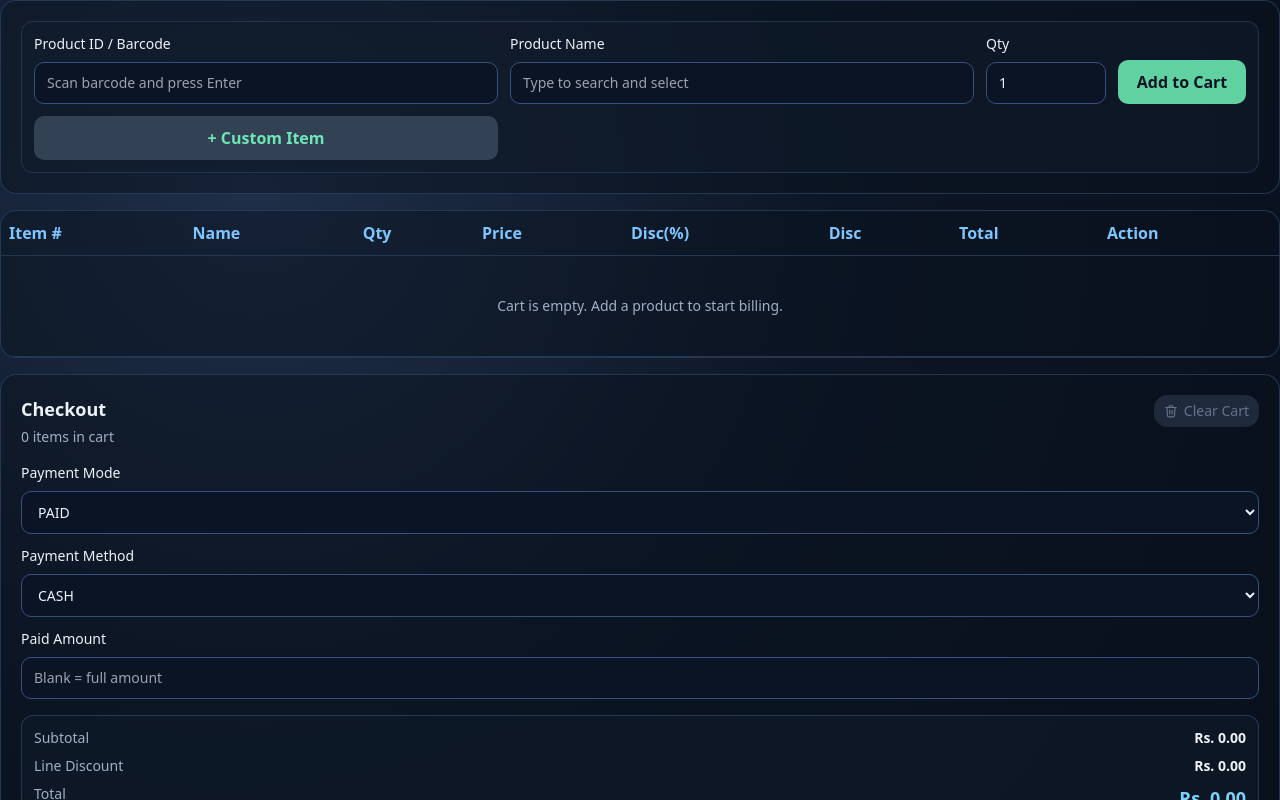
BillingTab › shows warning and blocks adding when qty exceeds stock
Type "P001" into the field labelled "Product ID / Barcode".
click(266, 83); type("P001")  # box top-left (34, 62), bottom-right (498, 104)
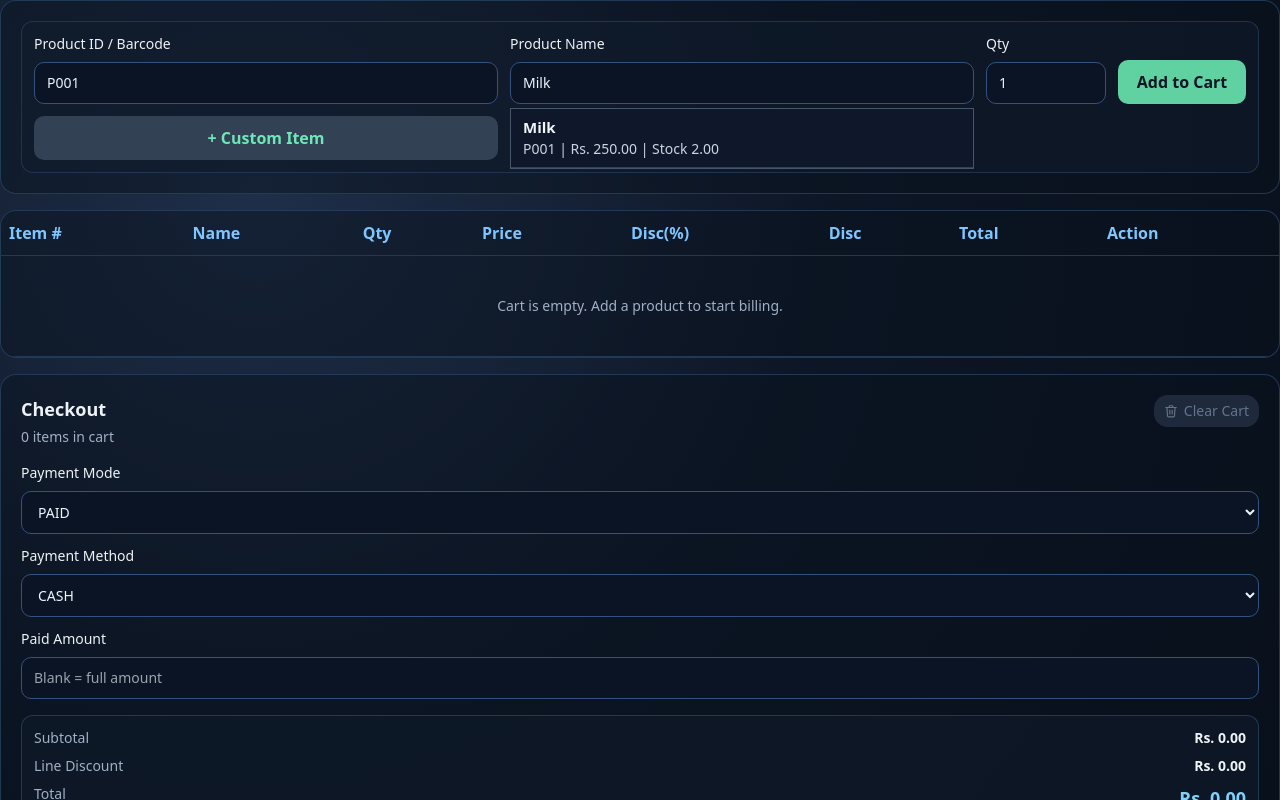
Replace the text in the field labelled "Qty" with "3" at point(1046, 83), box top-left (986, 62), bottom-right (1106, 104)
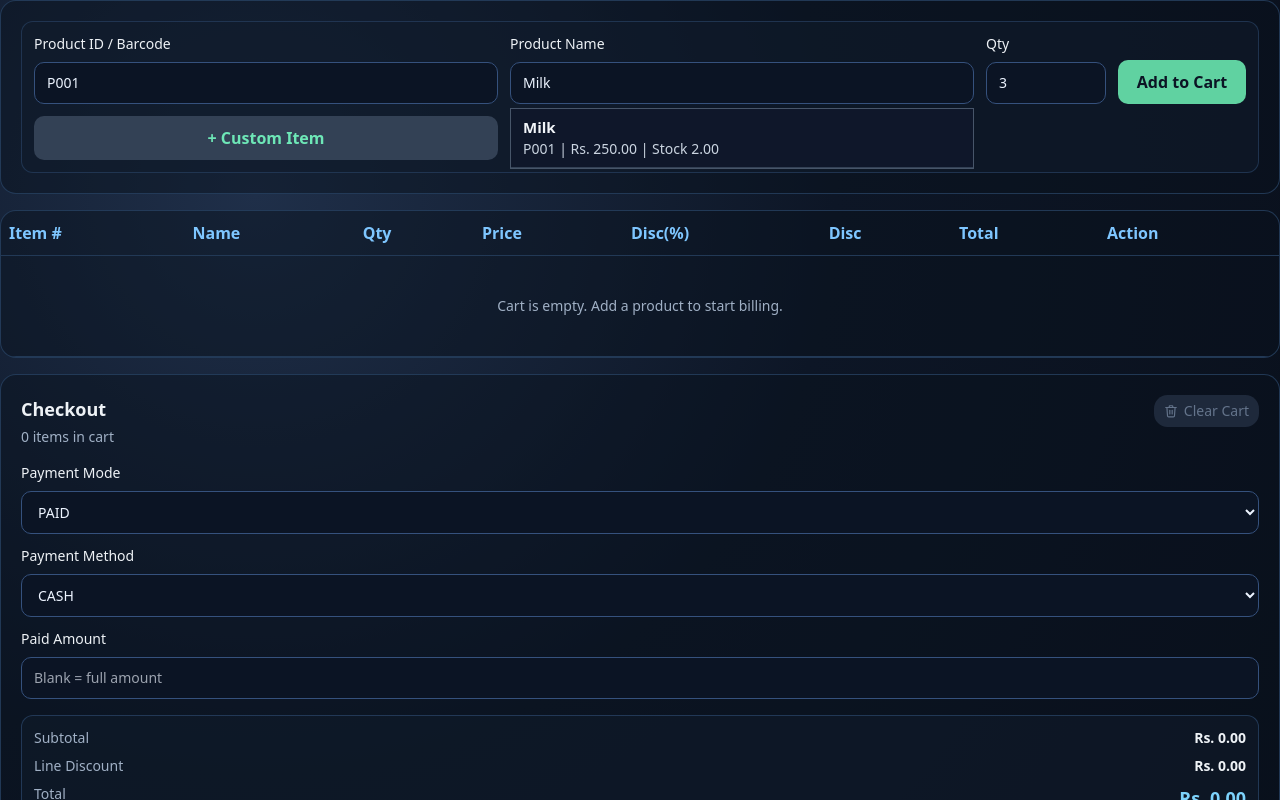
Click the button "Add to Cart".
click(1182, 82)  # box top-left (1118, 60), bottom-right (1246, 104)
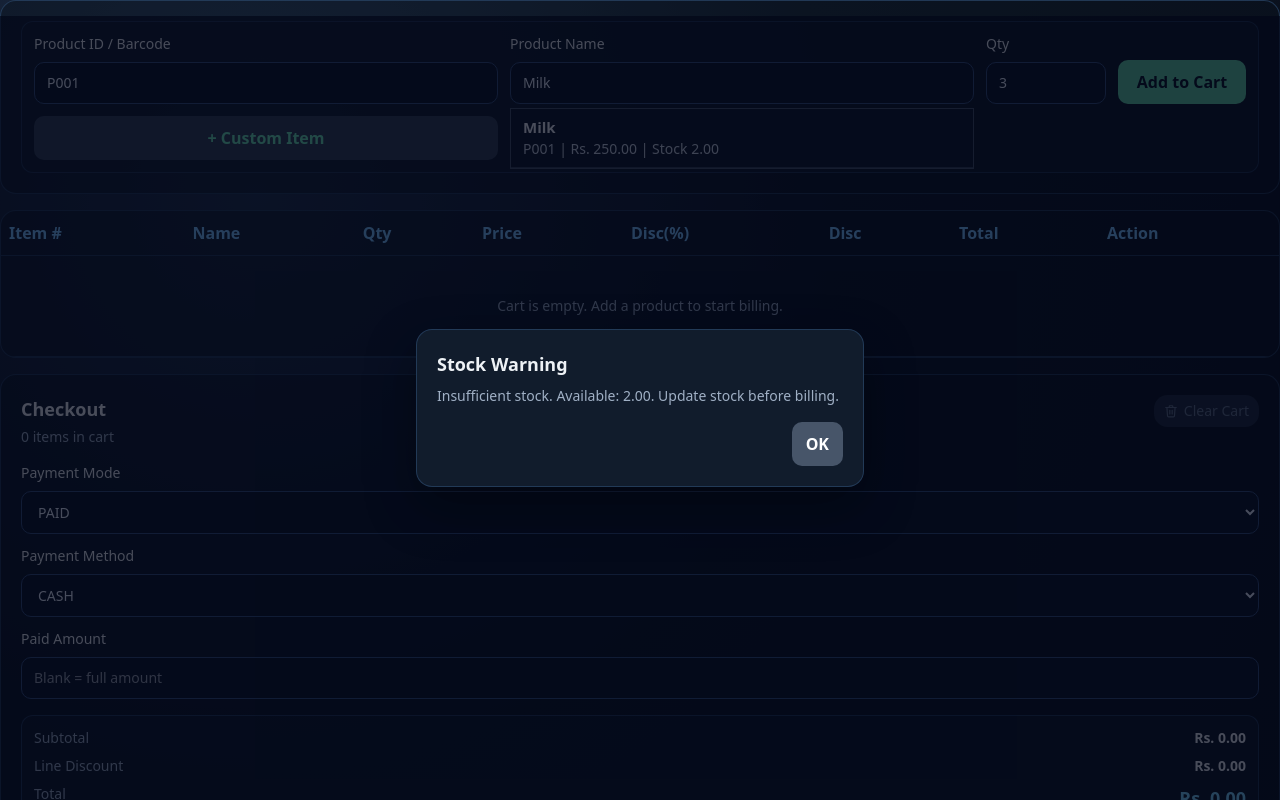
Expected: the dialog "Stock Warning" is shown
Expected: the text "Insufficient stock. Available: 2.00. Update stock before billing." is shown, top-left (437, 386), bottom-right (843, 406)
